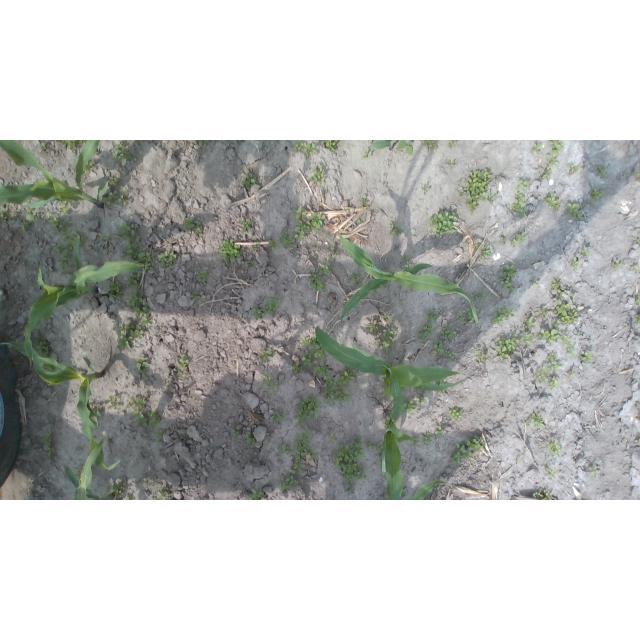Maize: (22, 235, 150, 370), (0, 341, 120, 470), (313, 324, 460, 424), (337, 232, 479, 326), (0, 140, 110, 210), (381, 402, 417, 500), (64, 437, 117, 500), (405, 478, 452, 500), (371, 140, 398, 150)
Weeds: (330, 434, 367, 494), (459, 169, 495, 212), (292, 428, 320, 473), (126, 274, 152, 321), (117, 219, 141, 264), (451, 435, 486, 463), (119, 321, 152, 350), (553, 297, 581, 328), (495, 332, 522, 361), (294, 395, 320, 425), (324, 375, 350, 404), (126, 398, 149, 429), (429, 212, 457, 237), (218, 238, 243, 264), (56, 241, 76, 271), (312, 349, 333, 377), (375, 328, 397, 354), (60, 231, 85, 252), (561, 331, 580, 357), (500, 264, 517, 292), (112, 141, 133, 163), (511, 192, 528, 219), (40, 431, 56, 458), (293, 140, 318, 157), (260, 373, 278, 396), (45, 212, 64, 233), (538, 328, 560, 346), (307, 271, 325, 293), (139, 244, 153, 272), (183, 219, 203, 238), (157, 252, 179, 269), (492, 308, 514, 324), (108, 280, 125, 300), (418, 324, 435, 344), (135, 358, 151, 379), (279, 228, 294, 250), (544, 192, 561, 211), (567, 203, 584, 222), (294, 221, 310, 241), (310, 213, 325, 234), (280, 476, 301, 491), (310, 165, 327, 183), (264, 297, 281, 314), (544, 438, 561, 455), (525, 412, 544, 427), (547, 353, 561, 373), (348, 271, 365, 287), (340, 368, 356, 385), (551, 279, 565, 298), (242, 172, 258, 188), (32, 341, 48, 357), (440, 324, 456, 340), (58, 199, 75, 214), (103, 192, 118, 208), (425, 308, 439, 325), (248, 486, 265, 500), (60, 140, 83, 150), (549, 141, 564, 156), (389, 221, 404, 236), (292, 205, 307, 220), (432, 340, 445, 357), (112, 484, 125, 501), (469, 292, 487, 304), (398, 140, 413, 154), (567, 163, 582, 177), (402, 399, 416, 414), (448, 407, 463, 421), (512, 232, 528, 245), (536, 367, 549, 383), (177, 354, 190, 370), (271, 411, 287, 424), (302, 350, 313, 368), (522, 316, 536, 330), (317, 262, 331, 276), (480, 245, 493, 260), (156, 485, 169, 500), (196, 268, 207, 285), (251, 306, 265, 319), (240, 219, 252, 234), (422, 141, 438, 152), (118, 187, 127, 206), (473, 350, 486, 363), (592, 188, 605, 201), (108, 395, 121, 408), (90, 404, 103, 417), (324, 141, 339, 152), (548, 377, 560, 390), (188, 292, 201, 304), (300, 335, 313, 347), (464, 307, 475, 321), (546, 157, 560, 168), (277, 444, 291, 455), (149, 413, 159, 428), (260, 348, 272, 360), (107, 176, 119, 188), (422, 432, 433, 445), (245, 432, 255, 446), (368, 320, 379, 332), (518, 179, 531, 189), (599, 165, 608, 179), (312, 335, 321, 349), (531, 143, 542, 154), (409, 437, 420, 448), (583, 352, 593, 364), (267, 239, 277, 251), (328, 245, 336, 260), (415, 392, 425, 404), (155, 430, 164, 443), (84, 161, 92, 175), (293, 362, 304, 372), (588, 466, 600, 475), (26, 214, 38, 223), (400, 263, 413, 271), (571, 257, 579, 270), (524, 334, 532, 347), (99, 233, 109, 243), (448, 350, 458, 360), (31, 331, 40, 342), (68, 275, 77, 286), (232, 425, 241, 436), (544, 166, 552, 178), (435, 376, 447, 384), (546, 467, 555, 477), (20, 221, 29, 231), (38, 142, 46, 153), (532, 491, 543, 499), (376, 443, 384, 454), (1, 208, 8, 220), (75, 464, 82, 476), (456, 316, 465, 325), (360, 197, 369, 206), (435, 426, 443, 436), (400, 255, 411, 262), (198, 141, 209, 148), (584, 247, 592, 256), (568, 372, 577, 380), (448, 160, 456, 169), (634, 314, 640, 325), (448, 140, 456, 148), (544, 492, 552, 500), (423, 184, 430, 193), (363, 152, 372, 159), (265, 432, 270, 444), (615, 260, 622, 268), (500, 236, 507, 244), (439, 388, 446, 396), (635, 294, 640, 305), (632, 266, 640, 272), (247, 260, 255, 266), (128, 494, 136, 500), (105, 484, 111, 492), (385, 315, 392, 321), (66, 300, 74, 305), (538, 175, 544, 181), (92, 468, 95, 480), (635, 171, 640, 178), (475, 308, 480, 315), (475, 243, 480, 249), (176, 372, 182, 377), (9, 169, 15, 174), (26, 208, 32, 213), (532, 280, 539, 284), (637, 236, 640, 245), (368, 444, 373, 449), (96, 145, 101, 150), (136, 141, 144, 144), (70, 388, 73, 396), (543, 308, 548, 312), (638, 438, 640, 445)
